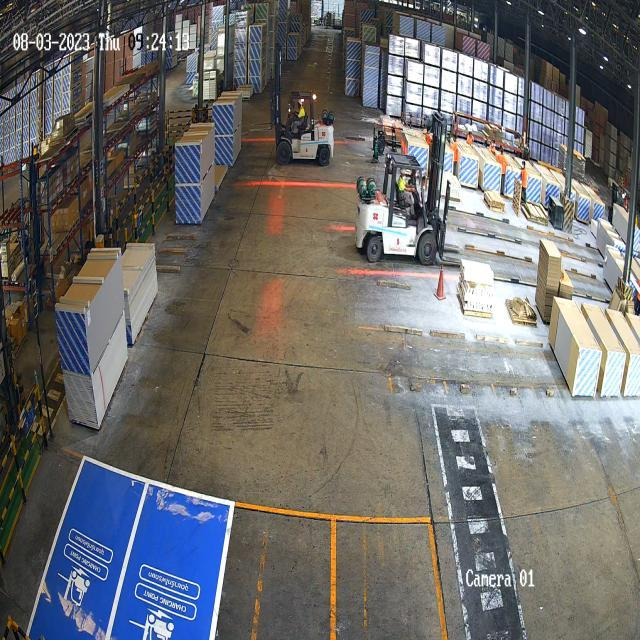driver: (396, 166, 418, 218), (290, 100, 308, 138)
forklift: (353, 147, 459, 270), (264, 88, 338, 169)
person: (520, 162, 529, 197), (451, 135, 458, 167)
